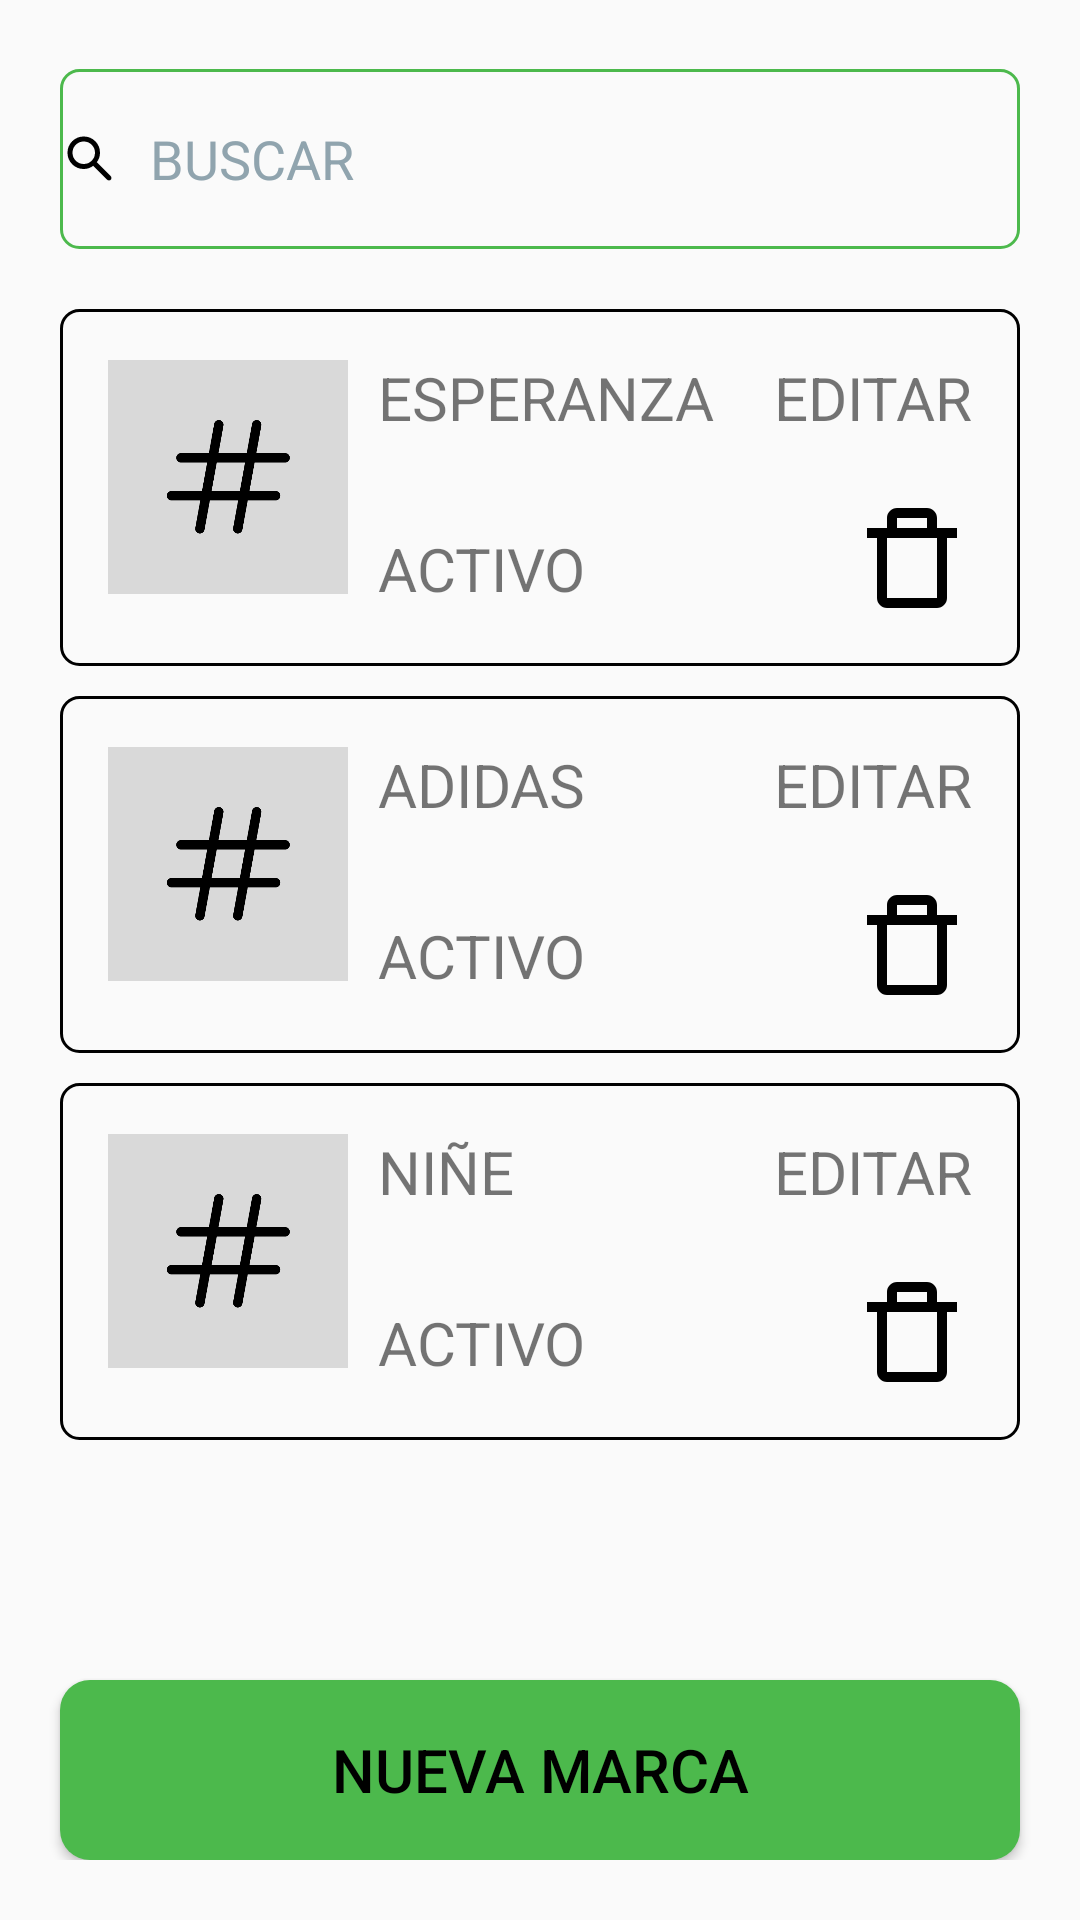

Icons on this 1080x1920 Android screen, each with its box as BBox(x1, y1, x2, y2):
basura: BBox(867, 508, 957, 608), BBox(867, 895, 957, 995), BBox(867, 1282, 957, 1382)
